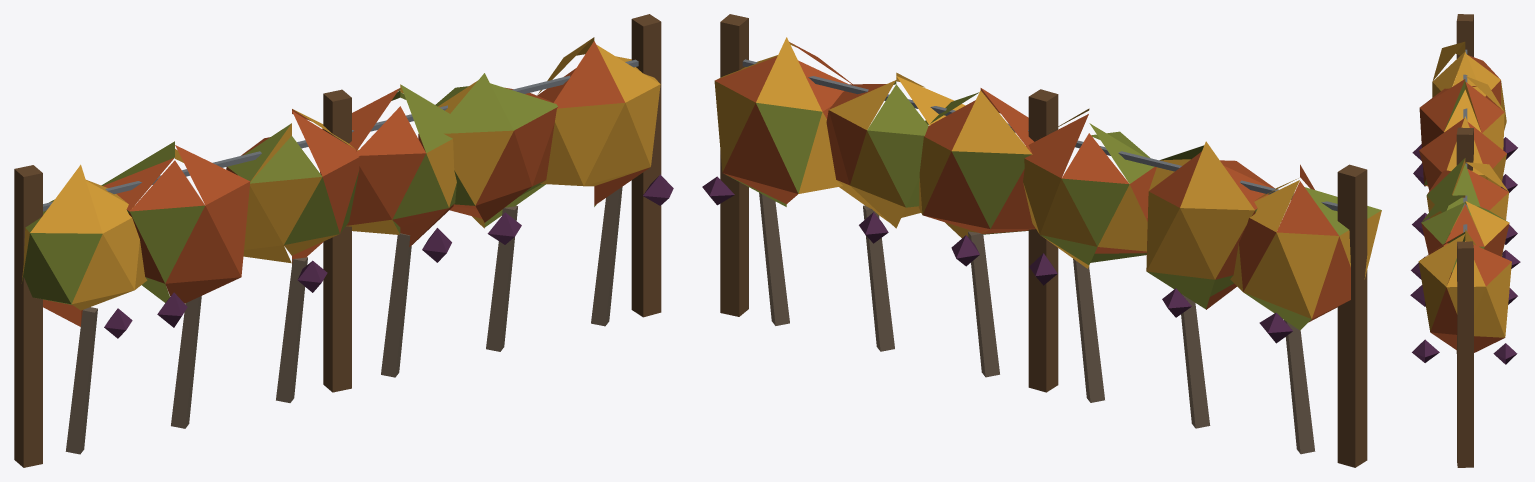
Rendered from vine_row.glb.
The picture shows the model from 3 angles, left to right: view 1: azimuth 30°, elevation 25°; view 2: azimuth 150°, elevation 25°; view 3: azimuth 270°, elevation 25°; orthographic projection. The views are drawn at different scales.
Parts seen in each view (by area): view 1: vine_row2; view 2: vine_row2; view 3: vine_row2.
Part boxes in pixels (left/top/right/bottom): vine_row2: left=14, top=14, right=673, bottom=467; vine_row2: left=702, top=14, right=1381, bottom=467; vine_row2: left=1410, top=14, right=1520, bottom=467.
Bounding box in the file's own units: 6.65 × 2.89 × 1.32.
